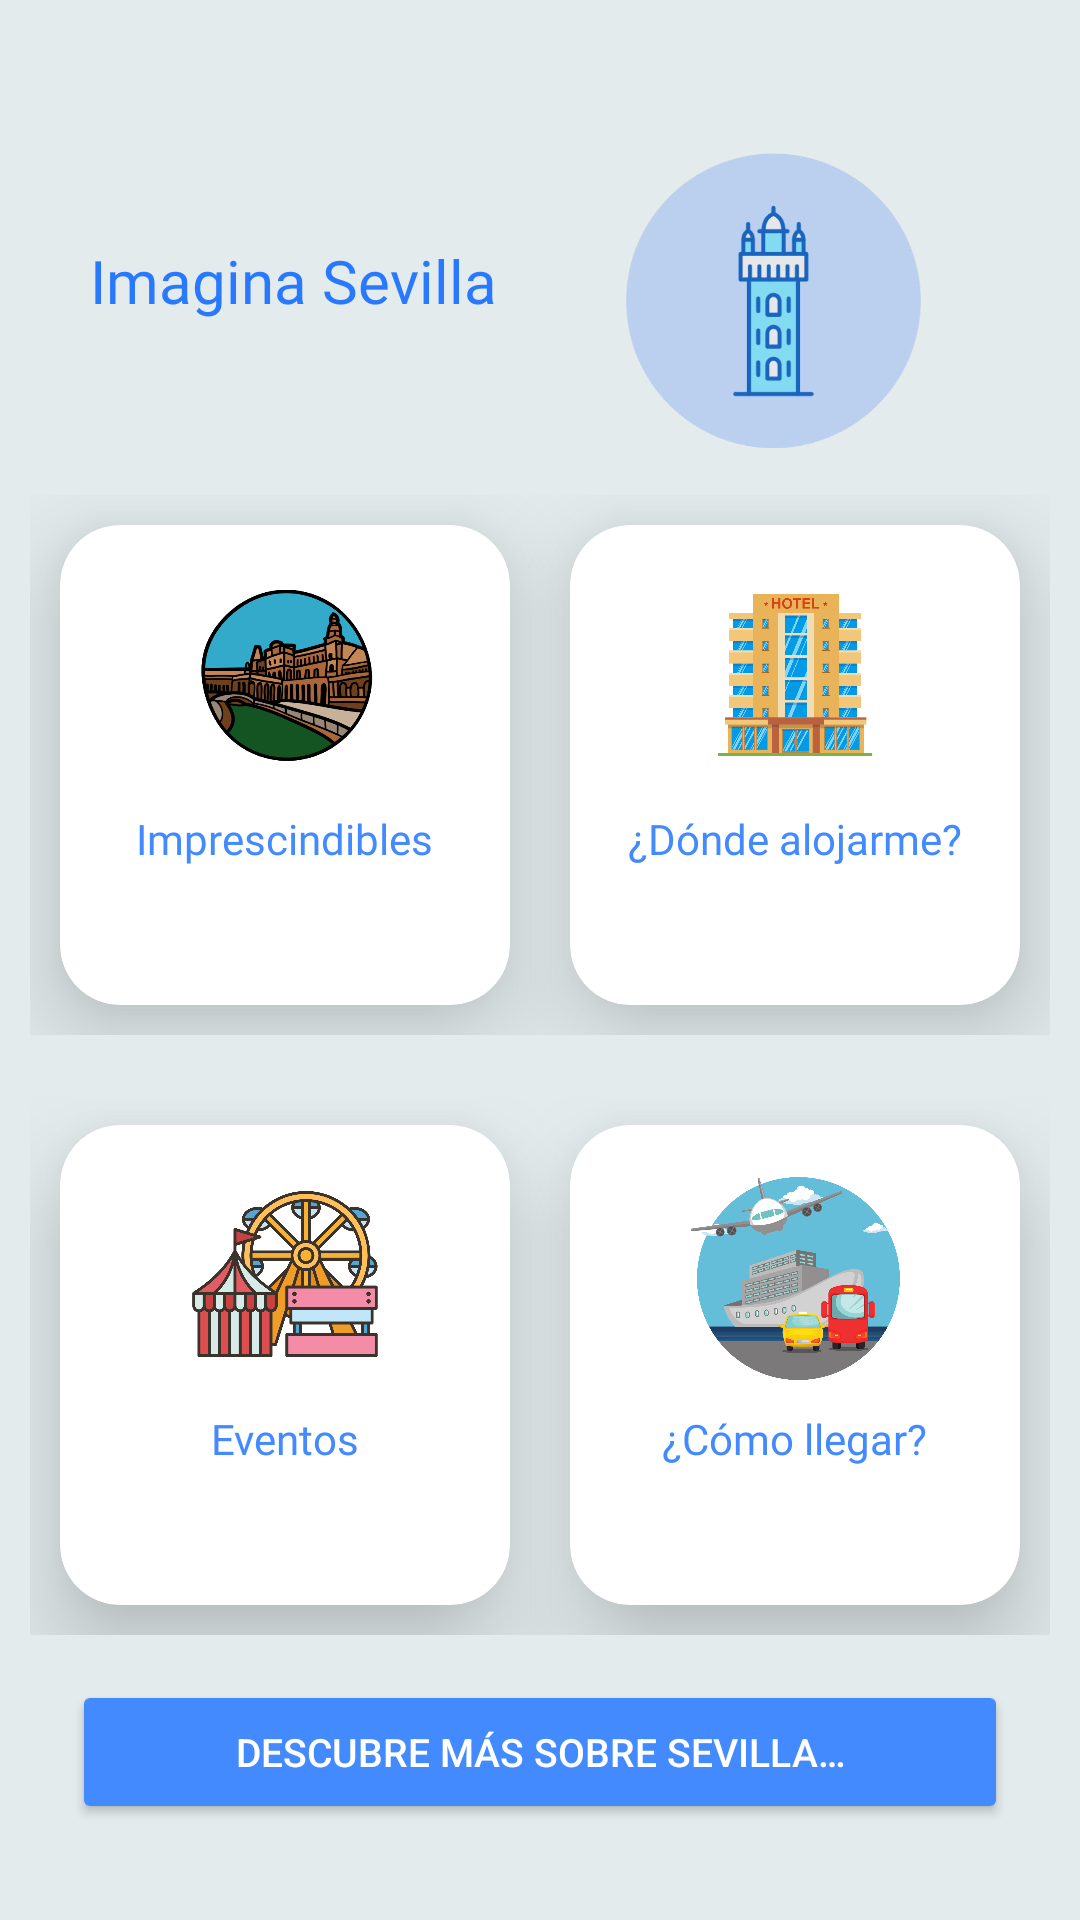

Named icons in this screenshot (1080 × 1920) and their bounding boxes, region(x1, y1, x2, y2):
Icono de la sección alojamiento: region(718, 594, 873, 756)
